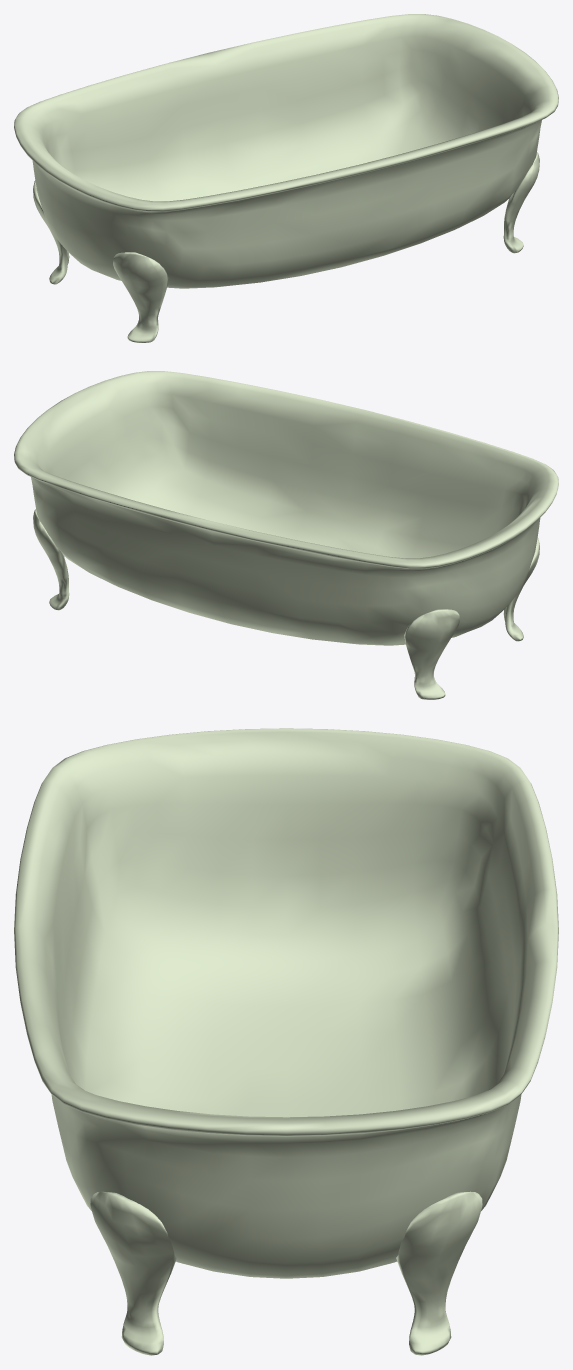
Rendered from BAIGNOIRE_SMOOTH.glb.
3 views of the same model, one above another, from view 1: azimuth 30°, elevation 25°; view 2: azimuth 150°, elevation 25°; view 3: azimuth 270°, elevation 25° (orthographic). The views are drawn at different scales.
Visible parts, largest first — view 1: CUVE, PIEDS; view 2: CUVE, PIEDS; view 3: CUVE, PIEDS.
Boxes of the visible parts, bbox=[...] form: CUVE: bbox=[14, 14, 558, 288]; PIEDS: bbox=[33, 152, 539, 342]; CUVE: bbox=[14, 371, 558, 645]; PIEDS: bbox=[33, 509, 539, 699]; CUVE: bbox=[14, 728, 558, 1278]; PIEDS: bbox=[90, 1191, 482, 1355].
Bounding box in the file's own units: 2.12 × 0.659 × 1.22.
